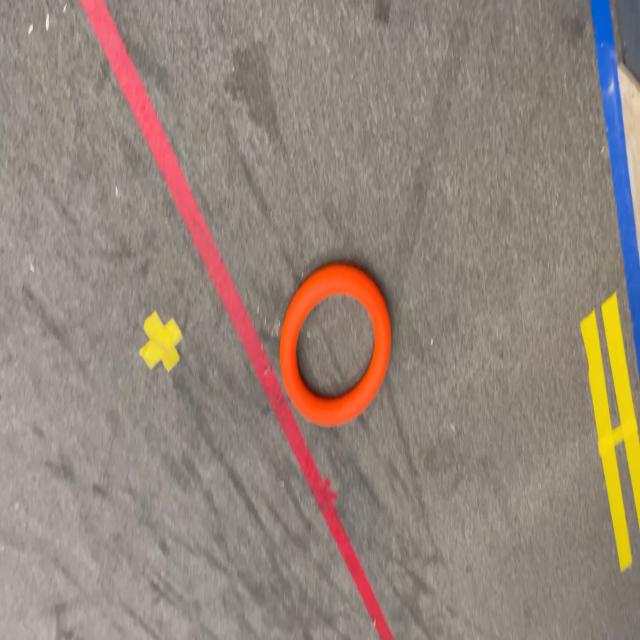note: (278, 260, 391, 428)
